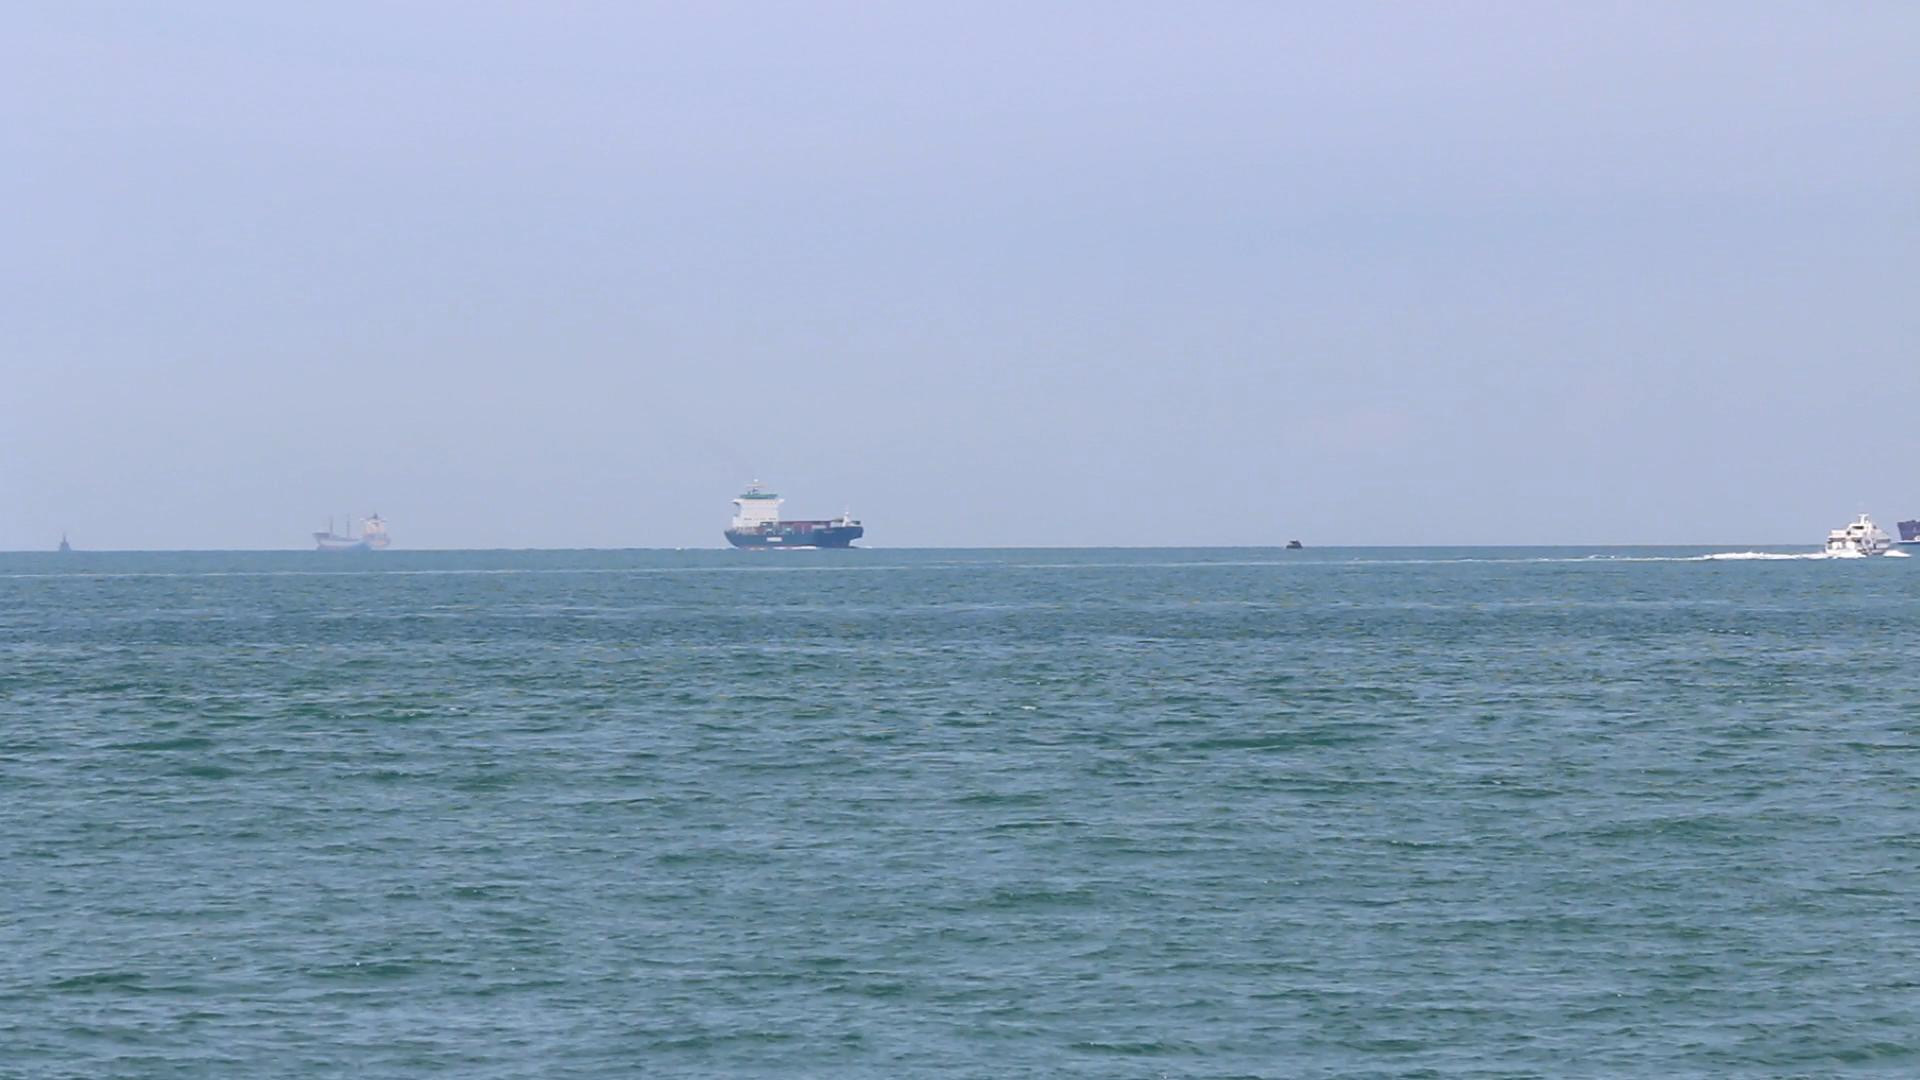Container Ship: (720, 469, 872, 559), (306, 497, 400, 554), (1884, 525, 1920, 553)
